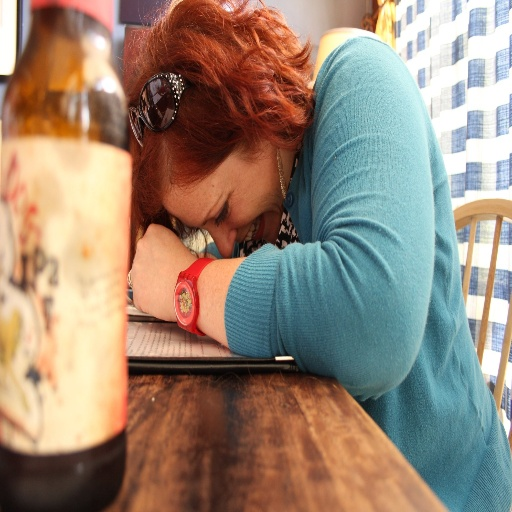hand: (107, 101, 491, 409), (126, 218, 196, 324)
